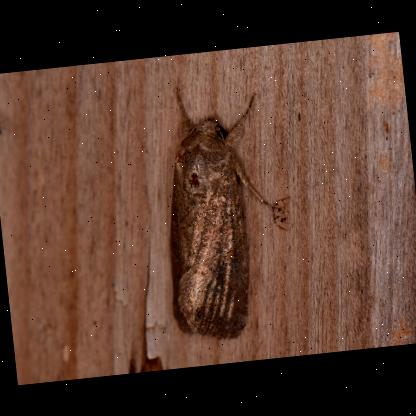Fall Armyworm Moth: (146, 72, 310, 348)
